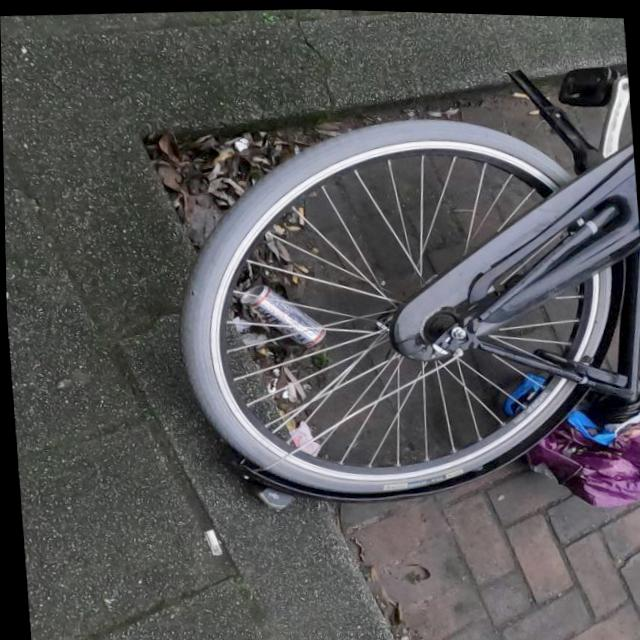Can-Metal: (237, 278, 327, 351)
Plastic: (284, 418, 320, 457)
